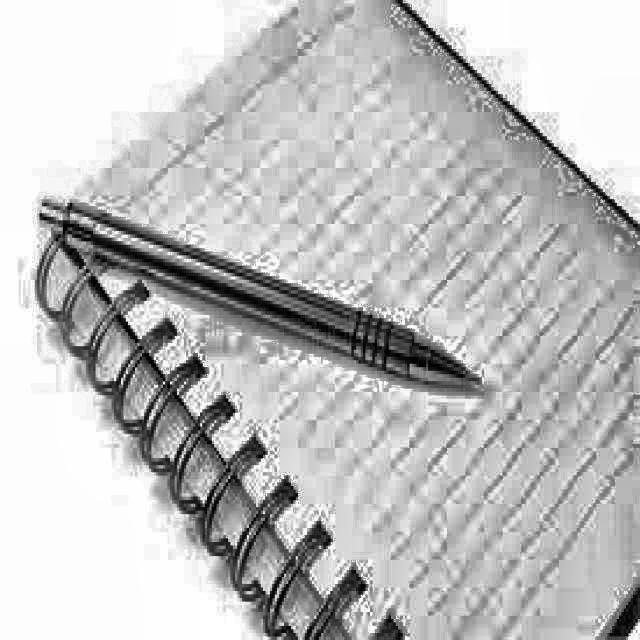Notebook: (25, 14, 632, 627)
Pen: (26, 158, 504, 428)
